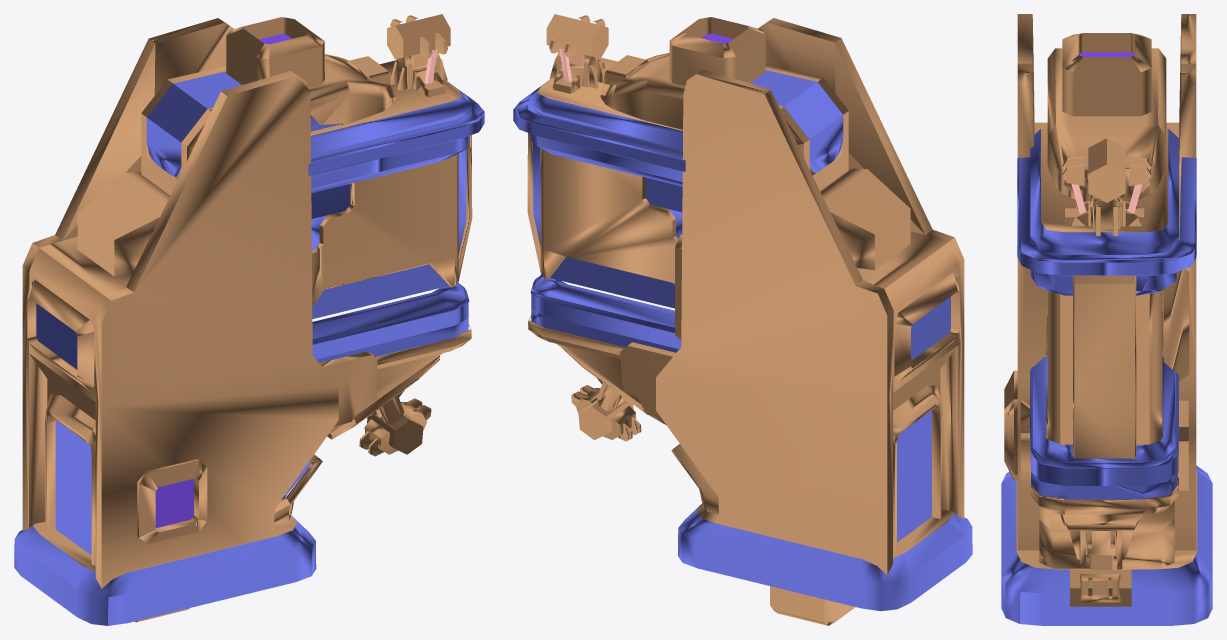
File: module_power_machine_fps_02x06x08_a.glb
The picture shows the model from 3 angles, left to right: view 1: azimuth 30°, elevation 25°; view 2: azimuth 150°, elevation 25°; view 3: azimuth 270°, elevation 25°; orthographic projection. The views are drawn at different scales.
Size of the model in its own units: 5.99 by 7.77 by 2.37.
